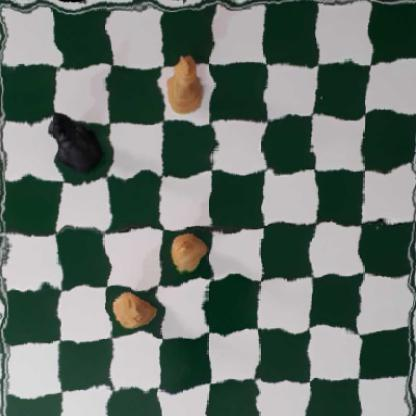black-king: (49, 111, 103, 174)
white-bishop: (168, 231, 208, 280)
white-king: (167, 50, 205, 120)
white-rook: (111, 287, 153, 332)
